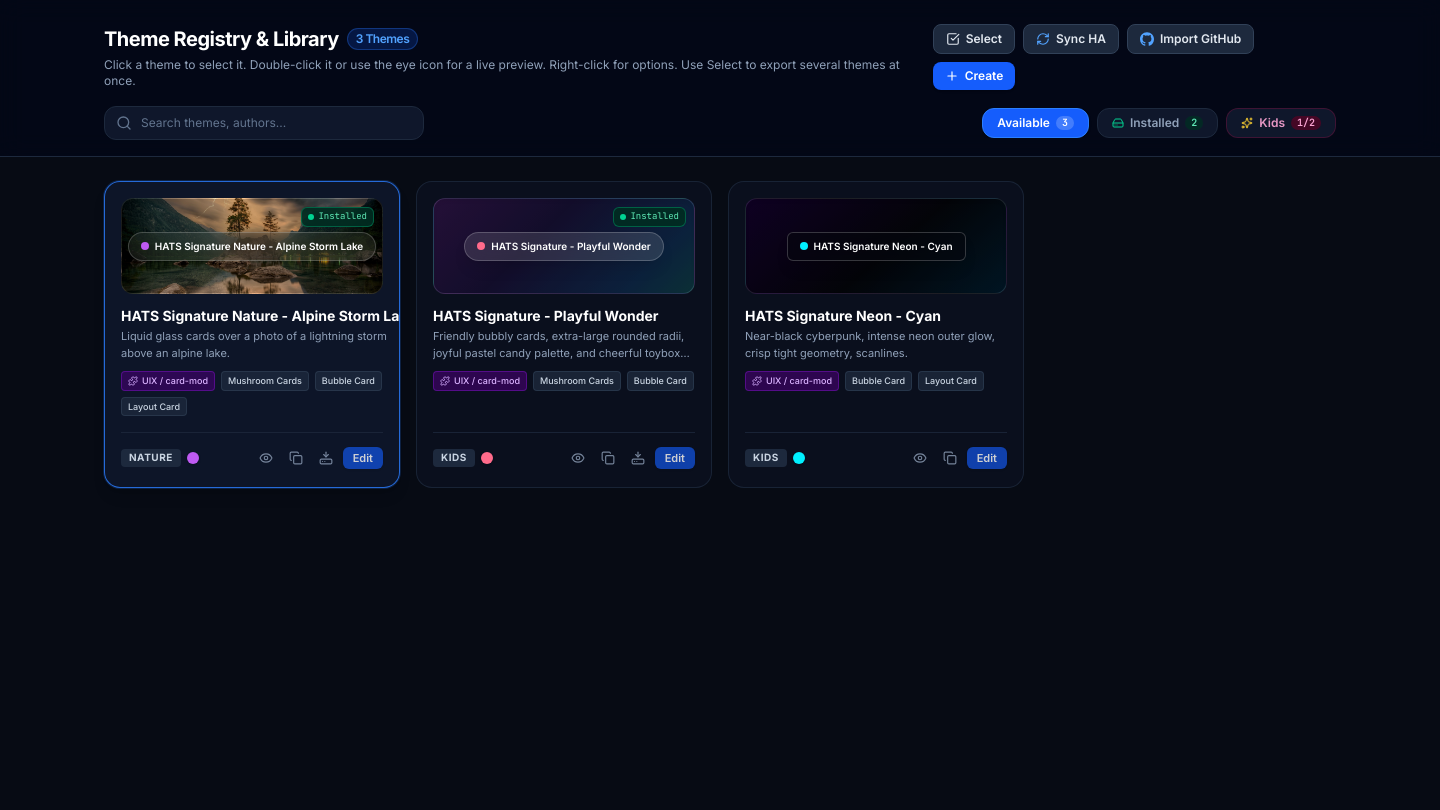
Test case: ThemeGallery in the Home Assistant app › keeps the Install button in the theme dialog
The image size is (1440, 810).
Double-click the text "HATS Signature Neon - Cyan" at (883, 246), box x1=814 y1=238 x2=952 y2=254
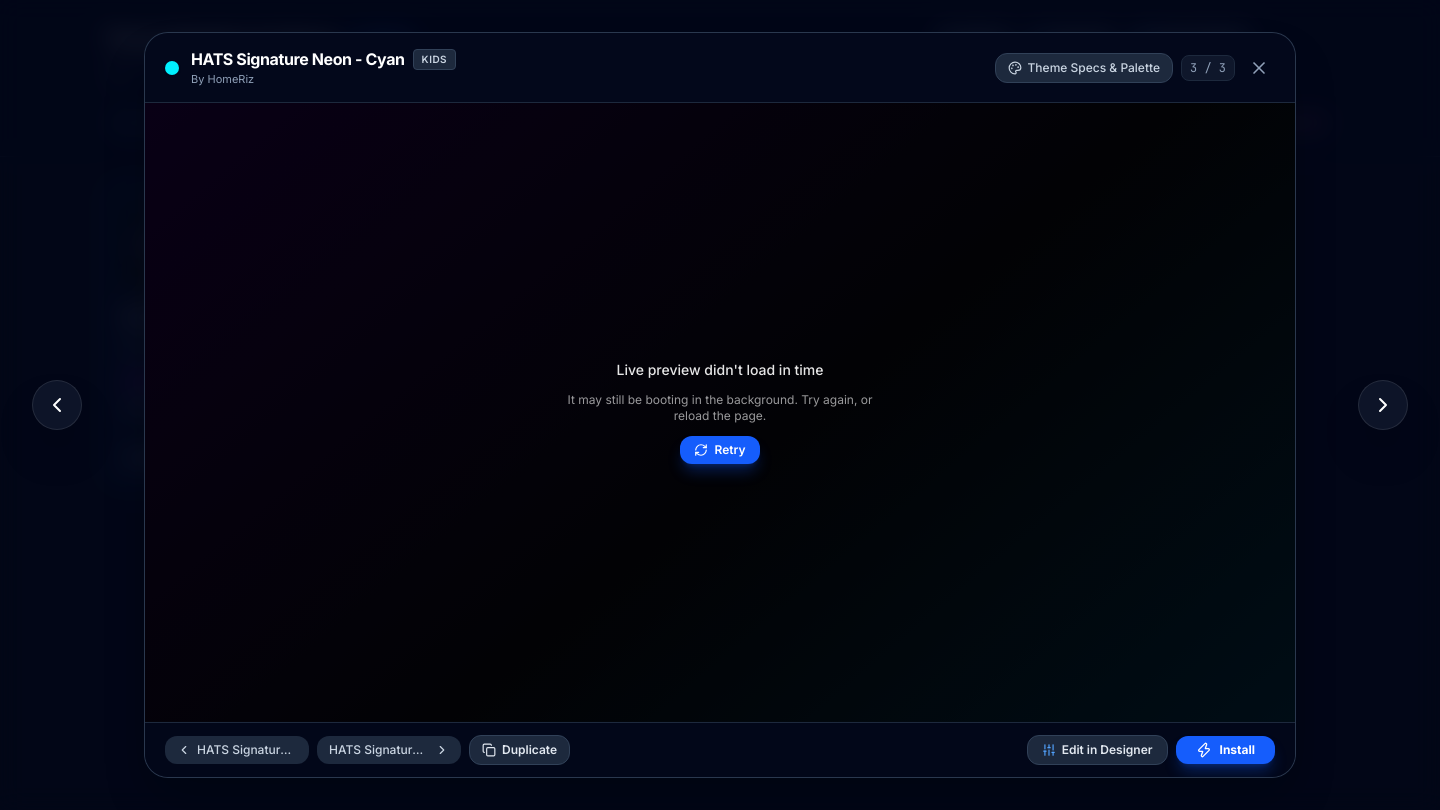
Check: the text "Install" is shown, box x1=1220 y1=742 x2=1255 y2=758
